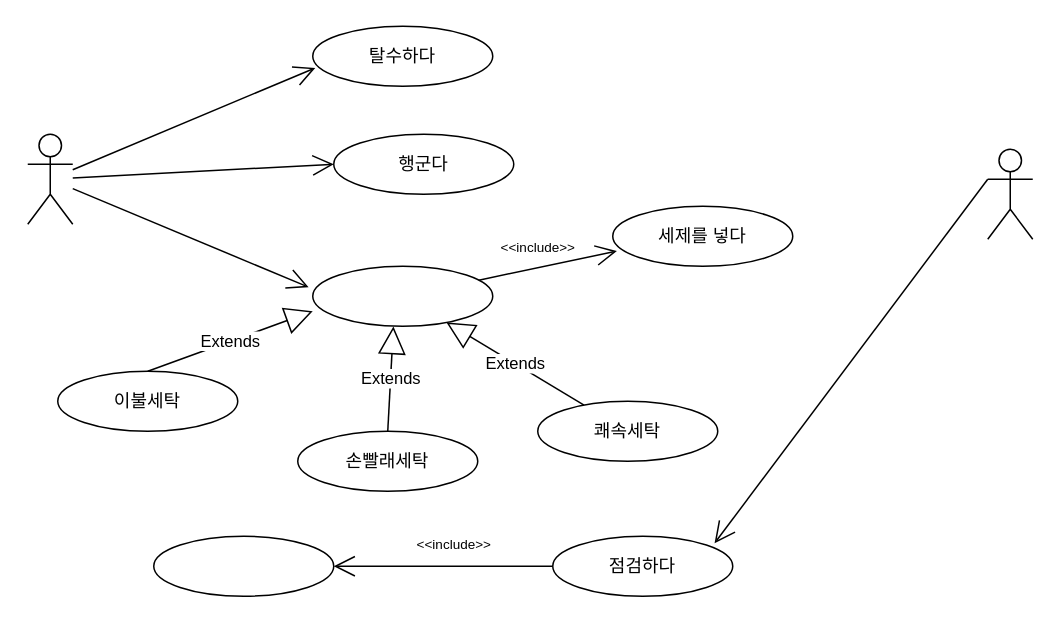
Some shapes in this 1061 by 623 pixel diagram are drawn without their labels. The shapes that lost their labels are listed below. From the top down, each one's centre as x and y in pixels, then its label:
(49,178): 사용자
(1009,193): 점검원
(402,295): 세탁하다
(243,565): 전원 OFF
